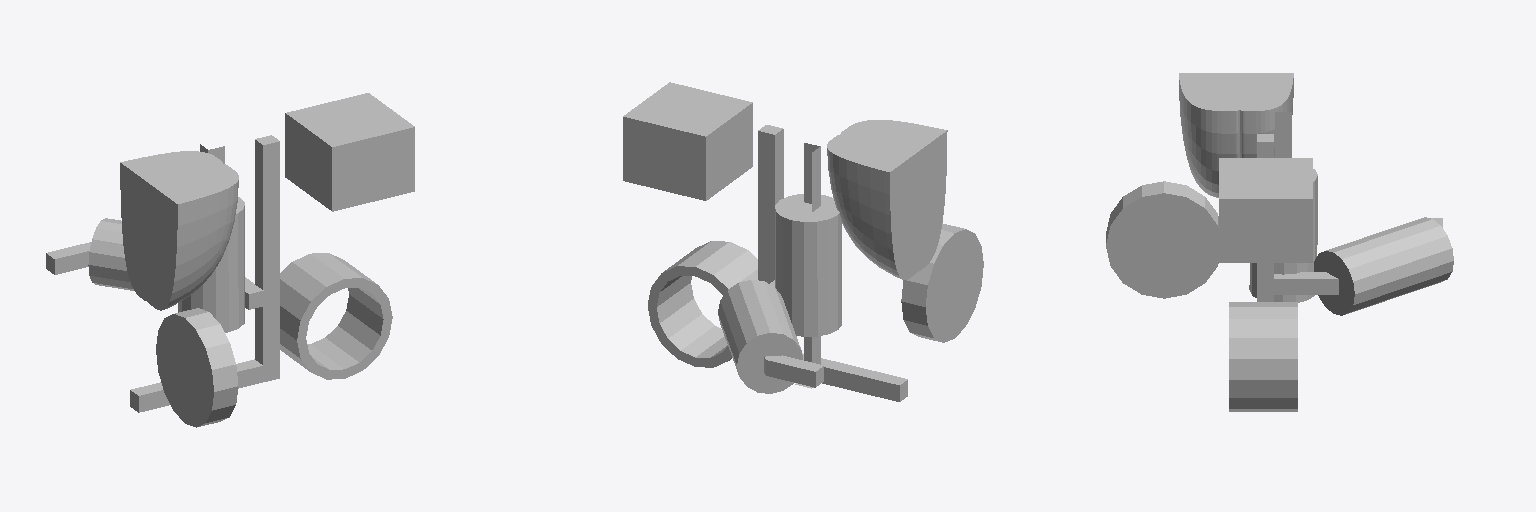
The model's file is frontRight.obj.
3 renders of one model, left to right at view 1: azimuth 30°, elevation 25°; view 2: azimuth 150°, elevation 25°; view 3: azimuth 270°, elevation 25°, orthographic.
Visible parts, largest first — view 1: Cube.011; view 2: Cube.011; view 3: Cube.011.
Part boxes in pixels (x1,y1,x2,y2): Cube.011: (46,93,414,427); Cube.011: (623,82,983,401); Cube.011: (1106,73,1453,411).
Size of the model in its own units: 0.3412 by 0.3036 by 0.3993.